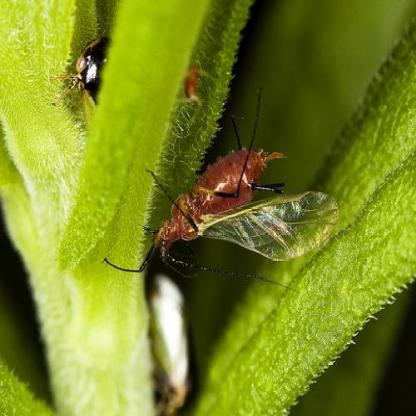aphid: (116, 84, 334, 311), (178, 56, 219, 114)
